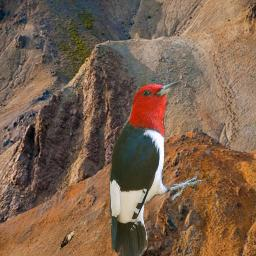Cuckoo: (59, 230, 76, 250)
Woodpecker: (108, 80, 203, 256)
